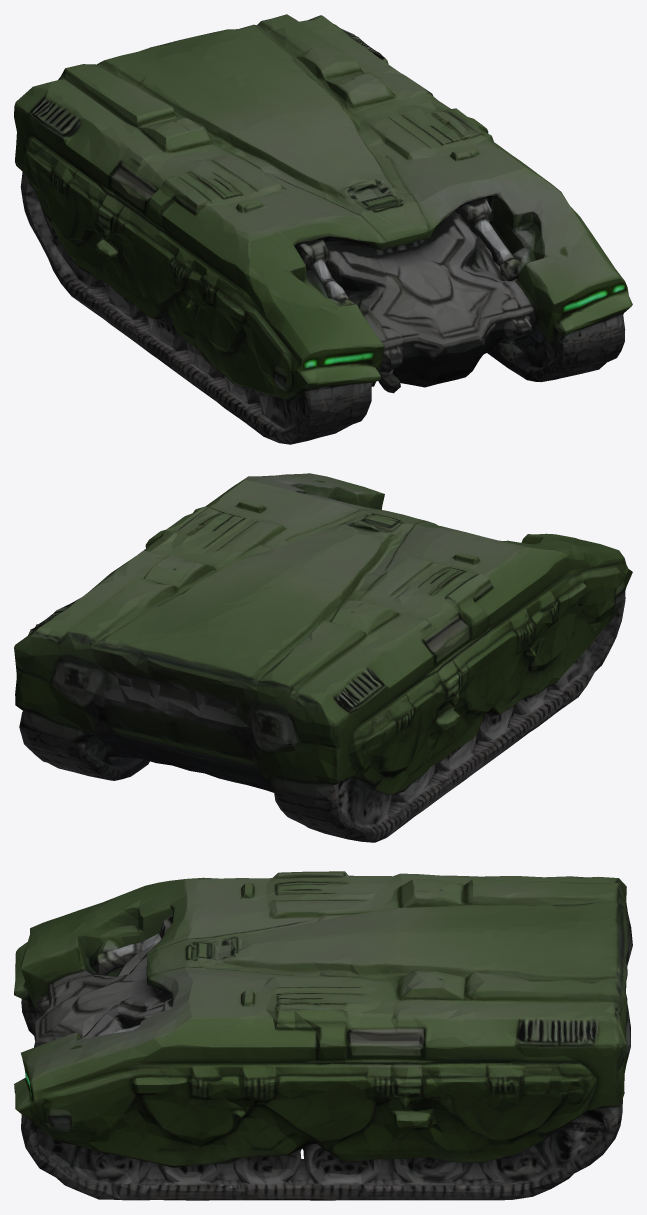
Rendered from LightTankHullTextured.glb.
3 renders of one model, top to bottom at view 1: azimuth 30°, elevation 25°; view 2: azimuth 150°, elevation 25°; view 3: azimuth 270°, elevation 25°, orthographic. The views are drawn at different scales.
Parts seen in each view (by area): view 1: world; view 2: world; view 3: world.
Boxes of the visible parts, x1=… form: world: x1=14, y1=14, x2=632, y2=444; world: x1=14, y1=473, x2=632, y2=842; world: x1=14, y1=871, x2=632, y2=1200.
Size of the model in its own units: 0.6814 by 0.3481 by 1.
Materials: 1 (1 with a texture image).
